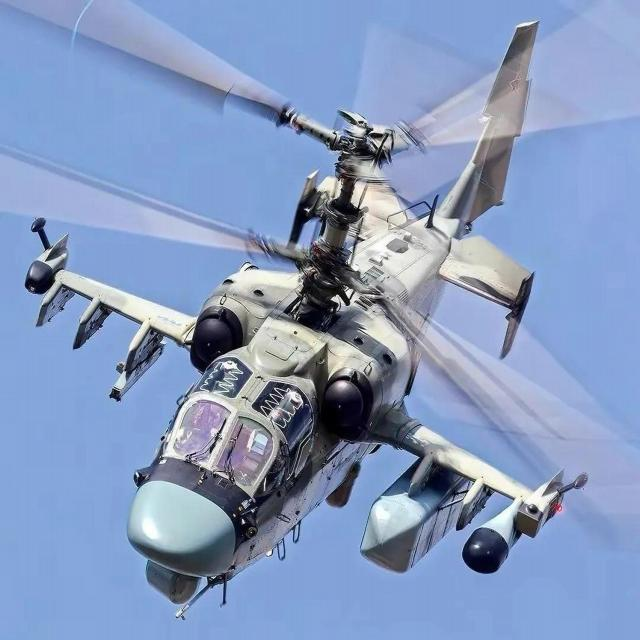MIL_HELO: (0, 0, 633, 622)
